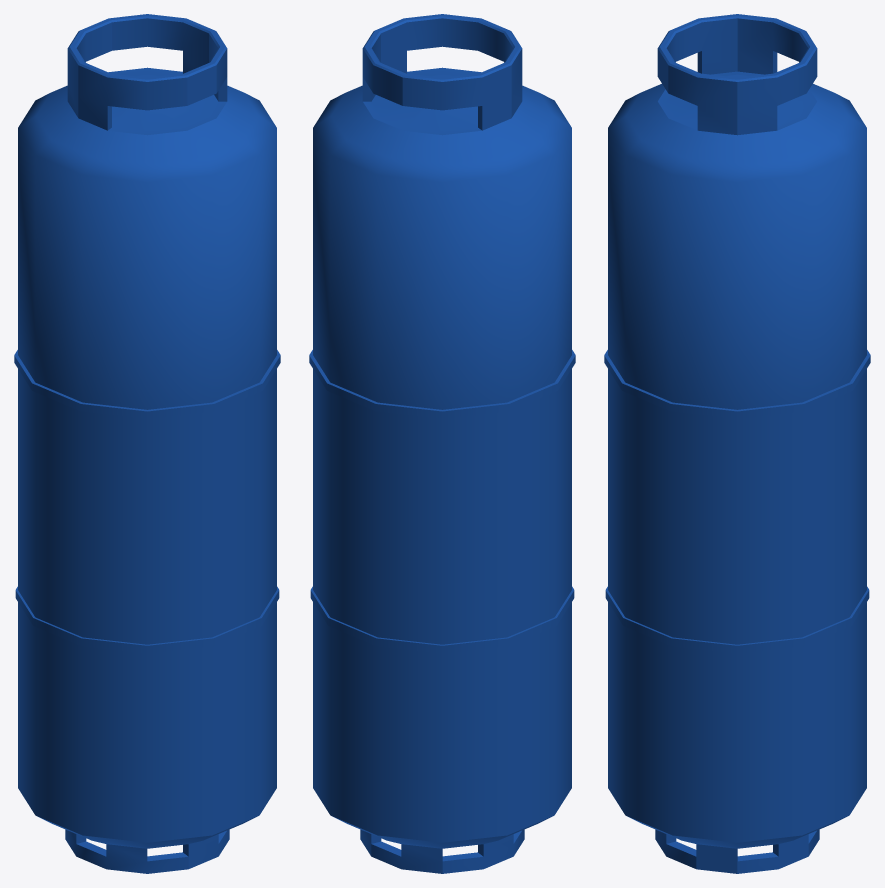
Rendered from botijaolongo.FBX.
The picture shows the model from 3 angles, left to right: view 1: azimuth 30°, elevation 25°; view 2: azimuth 150°, elevation 25°; view 3: azimuth 270°, elevation 25°; orthographic projection.
Parts seen in each view (by area): view 1: Cylinder001; view 2: Cylinder001; view 3: Cylinder001.
Boxes of the visible parts, x1,y1,x2,y2 form: Cylinder001: (14, 14, 280, 873); Cylinder001: (309, 14, 575, 873); Cylinder001: (604, 14, 870, 873).
Size of the model in its own units: 34.72 by 114 by 34.72.
